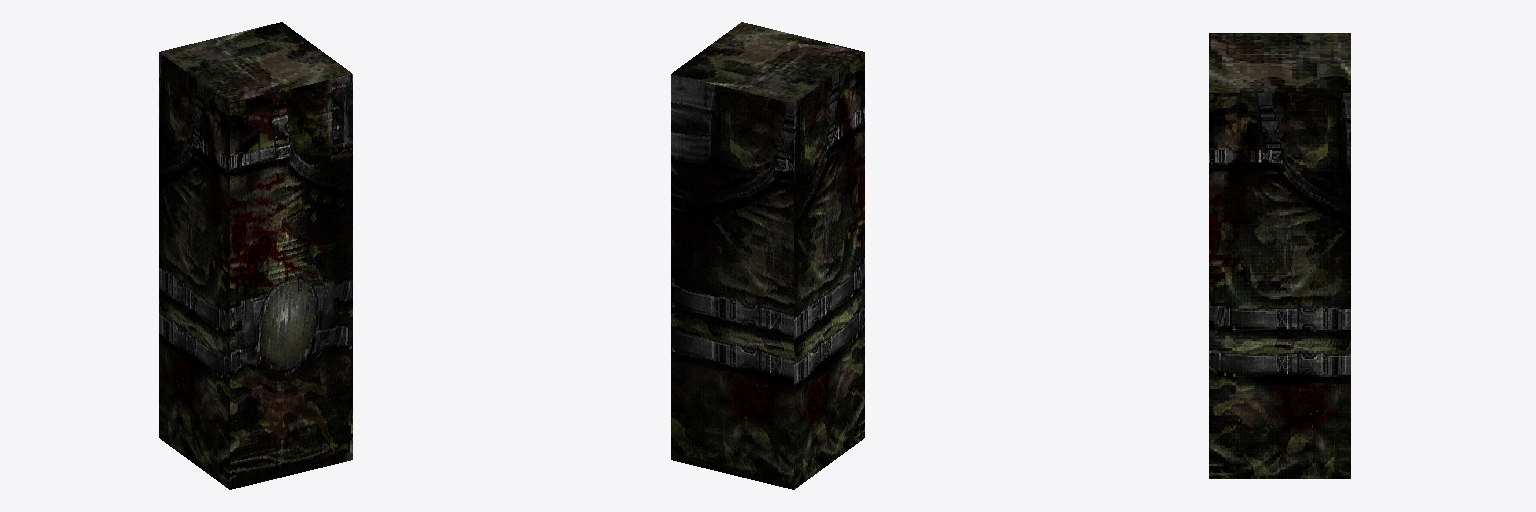
3 renders of one model, left to right at view 1: azimuth 30°, elevation 25°; view 2: azimuth 150°, elevation 25°; view 3: azimuth 270°, elevation 25°, orthographic.
Visible parts, largest first — view 1: arm_jacket_arm_Cube.001; view 2: arm_jacket_arm_Cube.001; view 3: arm_jacket_arm_Cube.001.
Boxes of the visible parts, x1,y1,x2,y2 form: arm_jacket_arm_Cube.001: [159, 22, 352, 489]; arm_jacket_arm_Cube.001: [671, 22, 864, 489]; arm_jacket_arm_Cube.001: [1209, 33, 1350, 478].
Bounding box in the file's own units: 1 × 3 × 1.
Materials: 1 (1 with a texture image).